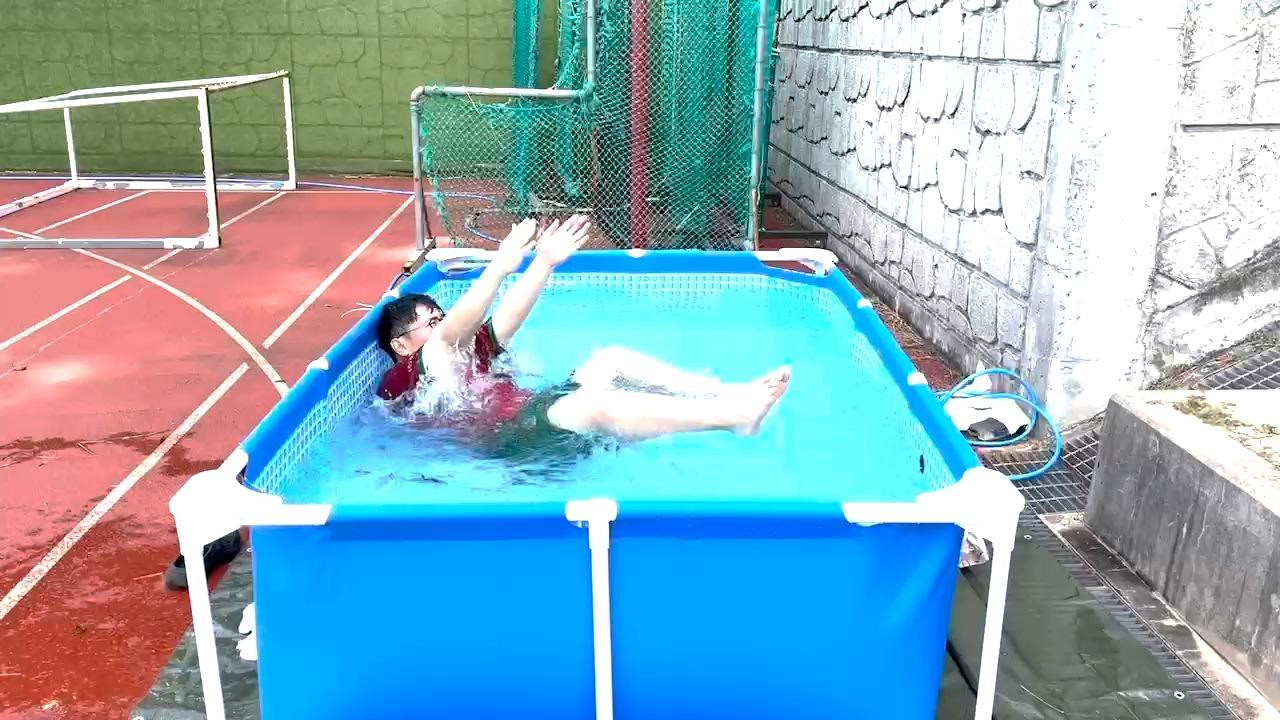Drowning: (416, 211, 752, 443)
